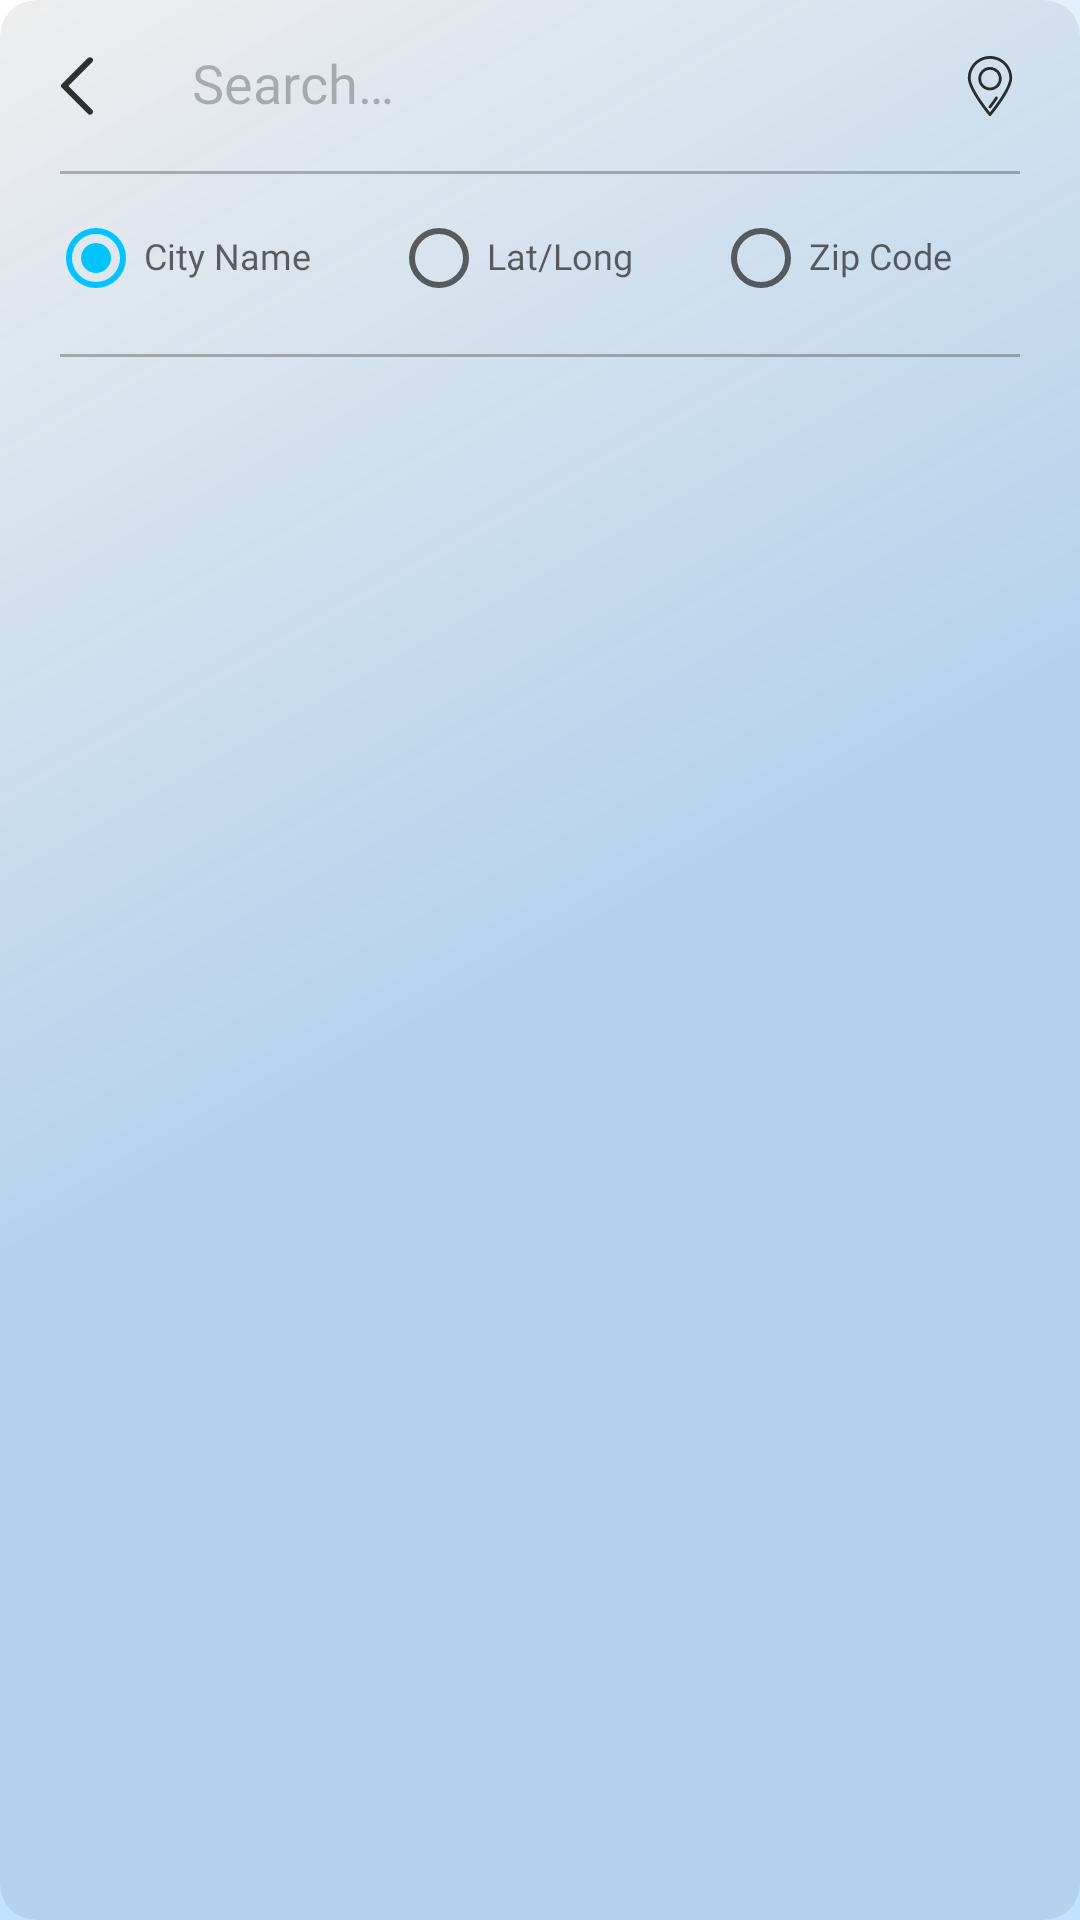

Point at icon controls on the screen. Image size 1080px×1920px, points as (x,y).
location: (989,86)
